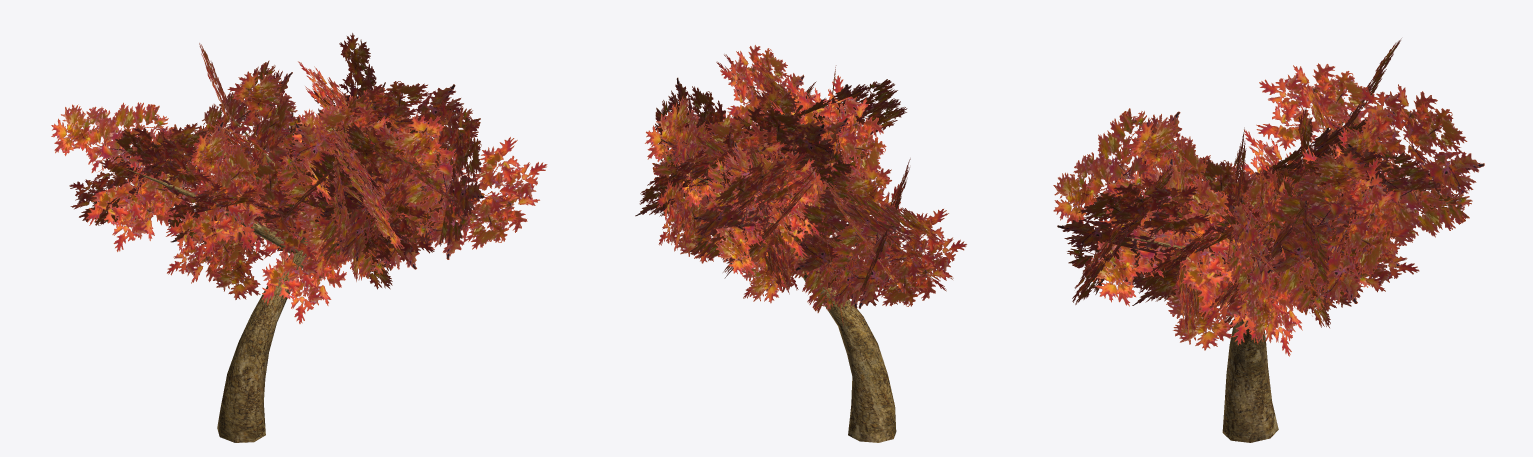
File: Tree10.FBX
The picture shows the model from 3 angles, left to right: view 1: azimuth 30°, elevation 25°; view 2: azimuth 150°, elevation 25°; view 3: azimuth 270°, elevation 25°; orthographic projection. The views are drawn at different scales.
Visible parts, largest first — view 1: Plane52, Plane45, Cylinder10, Plane62, Plane42, Plane69, Plane39, Plane41, Plane51, Plane61, Plane72, Plane38 (+19 smaller); view 2: Plane44, Cylinder10, Plane57, Plane58, Plane70, Plane67, Plane65, Plane41, Plane69, Plane45, Plane51, Plane40 (+17 smaller); view 3: Plane58, Plane50, Plane67, Plane51, Plane66, Plane63, Plane72, Plane43, Cylinder10, Plane57, Plane62, Plane47 (+19 smaller).
Boxes of the visible parts, x1,y1,x2,y2 form: Plane52: [394, 115, 547, 259]; Plane45: [51, 102, 186, 251]; Cylinder10: [217, 231, 313, 442]; Plane62: [305, 123, 434, 262]; Plane42: [122, 121, 266, 257]; Plane69: [276, 105, 398, 257]; Plane39: [196, 157, 335, 299]; Plane41: [166, 128, 268, 283]; Plane51: [406, 100, 483, 246]; Plane61: [319, 138, 421, 262]; Plane72: [346, 81, 480, 167]; Plane38: [211, 173, 348, 323]; Plane44: [832, 163, 966, 308]; Cylinder10: [784, 222, 896, 442]; Plane57: [707, 141, 823, 275]; Plane58: [688, 152, 807, 268]; Plane70: [747, 75, 886, 222]; Plane67: [656, 95, 710, 251]; Plane65: [652, 120, 806, 263]; Plane41: [785, 172, 922, 306]; Plane69: [726, 107, 851, 224]; Plane45: [838, 191, 953, 291]; Plane51: [720, 45, 804, 129]; Plane40: [784, 184, 904, 312]; Plane58: [1344, 84, 1484, 250]; Plane50: [1088, 158, 1249, 306]; Plane67: [1255, 151, 1419, 298]; Plane51: [1057, 181, 1210, 298]; Plane66: [1243, 157, 1397, 314]; Plane63: [1053, 108, 1210, 251]; Plane72: [1226, 169, 1301, 343]; Plane43: [1256, 63, 1398, 194]; Cylinder10: [1222, 259, 1278, 442]; Plane57: [1295, 144, 1458, 213]; Plane62: [1094, 117, 1220, 279]; Plane47: [1148, 192, 1259, 350].
Bounding box in the file's own units: 313 × 245 × 283.
2 materials, 2 textured.
